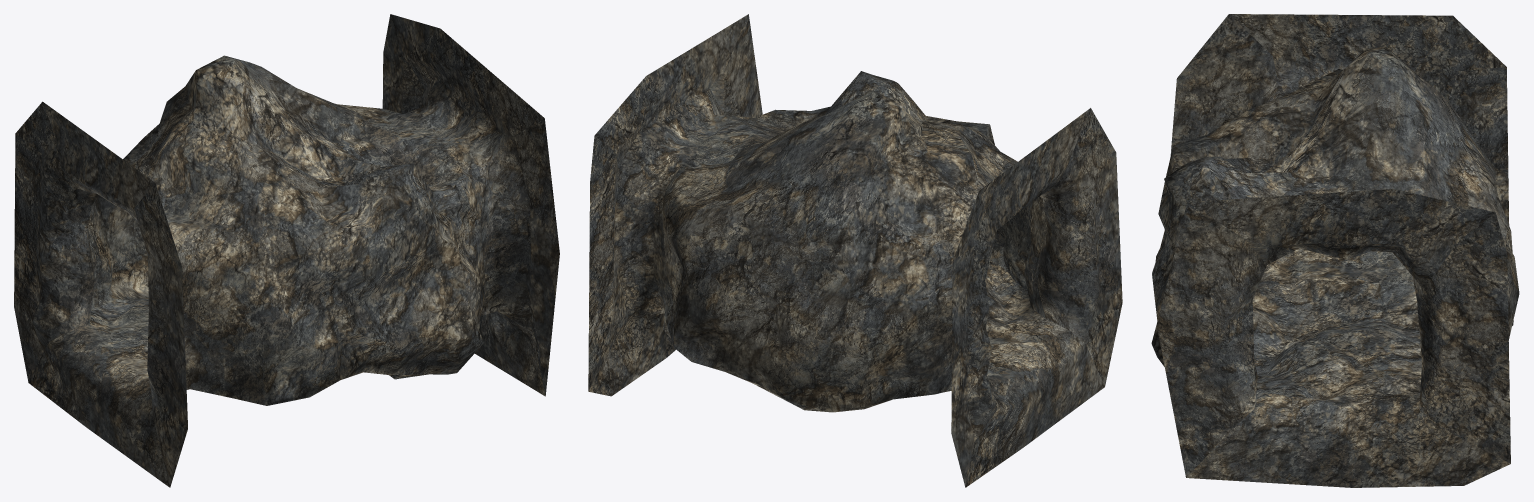
The model's file is Module6.fbx.
The picture shows the model from 3 angles, left to right: view 1: azimuth 30°, elevation 25°; view 2: azimuth 150°, elevation 25°; view 3: azimuth 270°, elevation 25°; orthographic projection.
Parts seen in each view (by area): view 1: cave_el6_900_Group4963; view 2: cave_el6_900_Group4963; view 3: cave_el6_900_Group4963.
Boxes of the visible parts, x1,y1,x2,y2 form: cave_el6_900_Group4963: (14, 14, 559, 487); cave_el6_900_Group4963: (588, 14, 1122, 487); cave_el6_900_Group4963: (1151, 14, 1519, 487).
Size of the model in its own units: 10.7 by 8.76 by 8.88.
